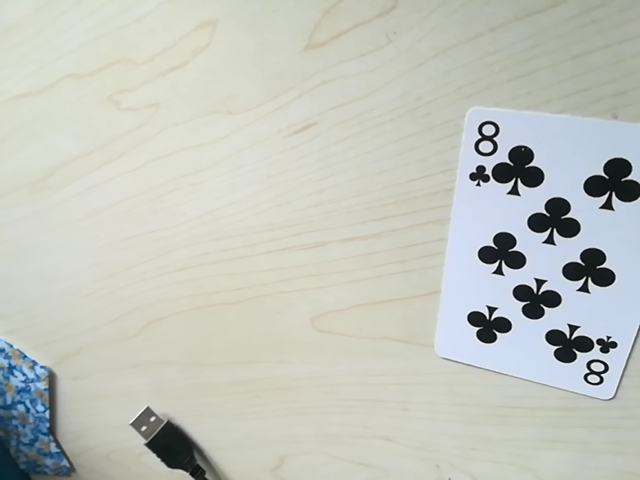mh 8: (462, 109, 513, 185), (576, 337, 620, 393)
